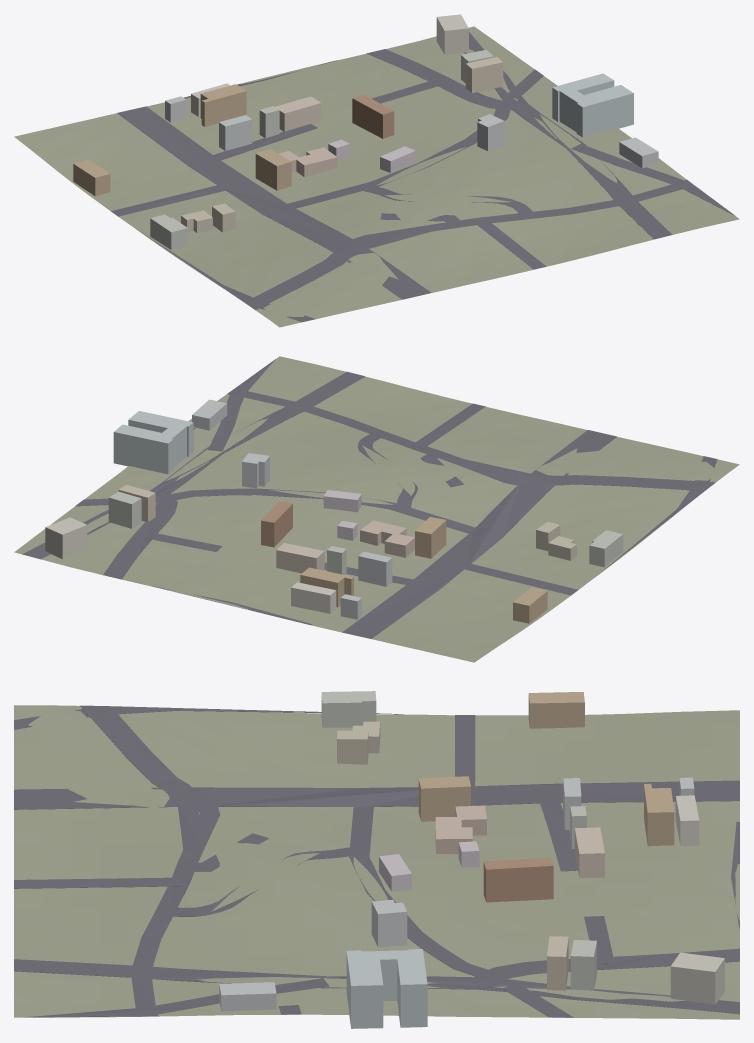
Rendered from chunk_9_8.glb.
The picture shows the model from 3 angles, top to bottom: view 1: azimuth 30°, elevation 25°; view 2: azimuth 150°, elevation 25°; view 3: azimuth 270°, elevation 25°; orthographic projection. The views are drawn at different scales.
Parts seen in each view (by area): view 1: geometry_21, geometry_44, geometry_1, geometry_22, geometry_37, geometry_18, geometry_23, geometry_29, geometry_17, geometry_25, geometry_3, geometry_4 (+21 smaller); view 2: geometry_21, geometry_44, geometry_1, geometry_22, geometry_23, geometry_37, geometry_29, geometry_20, geometry_0, geometry_25, geometry_13, geometry_14 (+22 smaller); view 3: geometry_21, geometry_44, geometry_1, geometry_22, geometry_17, geometry_23, geometry_29, geometry_20, geometry_37, geometry_19, geometry_3, geometry_40 (+26 smaller).
Part boxes in pixels (bbox=[...]): geometry_21: bbox=[14, 26, 739, 327]; geometry_44: bbox=[117, 106, 356, 249]; geometry_1: bbox=[552, 73, 633, 137]; geometry_22: bbox=[464, 32, 632, 199]; geometry_37: bbox=[366, 49, 519, 109]; geometry_18: bbox=[200, 84, 246, 126]; geometry_23: bbox=[287, 106, 510, 208]; geometry_29: bbox=[244, 251, 358, 310]; geometry_17: bbox=[352, 94, 394, 138]; geometry_25: bbox=[571, 144, 735, 215]; geometry_3: bbox=[255, 149, 291, 190]; geometry_4: bbox=[465, 57, 503, 92]; geometry_21: bbox=[14, 356, 739, 662]; geometry_44: bbox=[342, 482, 550, 638]; geometry_1: bbox=[113, 411, 193, 474]; geometry_22: bbox=[22, 406, 303, 559]; geometry_23: bbox=[167, 488, 475, 533]; geometry_37: bbox=[103, 493, 177, 579]; geometry_29: bbox=[544, 475, 715, 490]; geometry_20: bbox=[45, 517, 87, 559]; geometry_0: bbox=[360, 520, 414, 557]; geometry_25: bbox=[208, 359, 275, 451]; geometry_13: bbox=[276, 543, 324, 573]; geometry_14: bbox=[291, 582, 336, 613]; geometry_21: bbox=[14, 705, 739, 1019]; geometry_44: bbox=[204, 780, 739, 806]; geometry_1: bbox=[346, 949, 427, 1028]; geometry_22: bbox=[147, 966, 739, 1014]; geometry_17: bbox=[483, 857, 553, 902]; geometry_23: bbox=[349, 806, 494, 977]; geometry_29: bbox=[80, 705, 194, 799]; geometry_20: bbox=[670, 952, 724, 1004]; geometry_37: bbox=[474, 948, 739, 987]; geometry_19: bbox=[528, 692, 584, 728]; geometry_3: bbox=[418, 776, 470, 821]; geometry_40: bbox=[133, 866, 195, 972].
Bounding box in the file's own units: 259 × 18.58 × 250.
